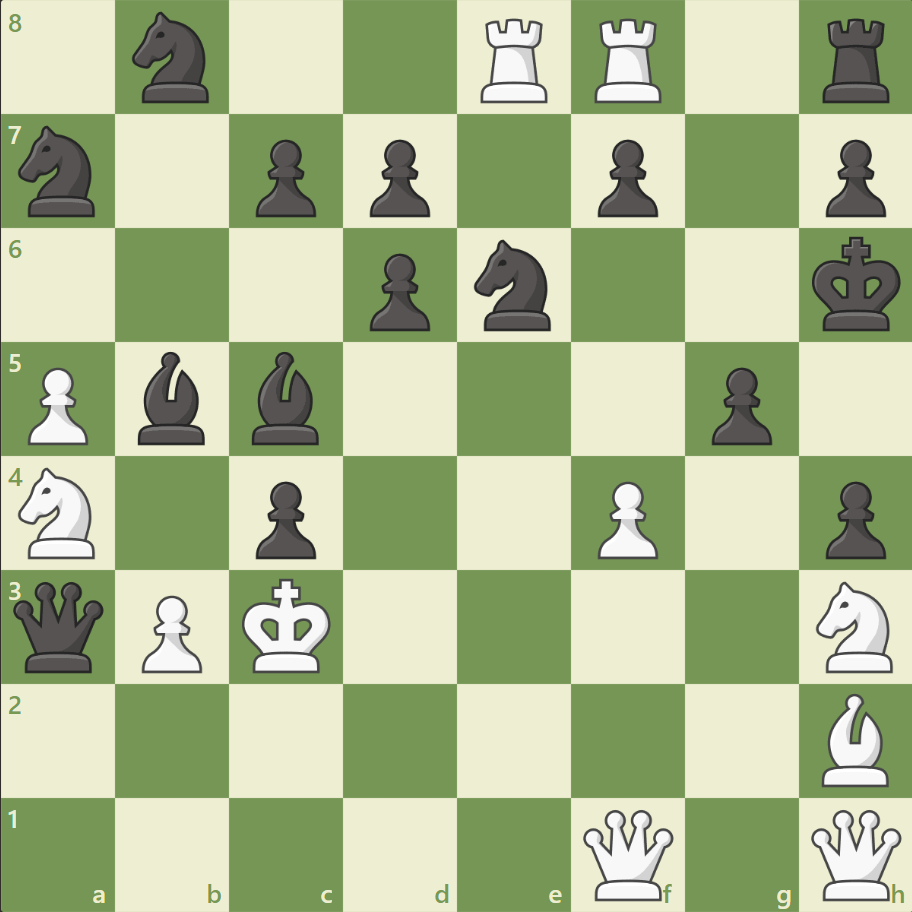B: (812, 687, 896, 790)
K: (238, 571, 338, 679)
N: (11, 461, 108, 564), (806, 575, 903, 677)
P: (20, 359, 95, 450), (133, 586, 208, 677), (588, 473, 662, 564)
Q: (578, 804, 677, 903), (805, 804, 904, 903)
R: (473, 12, 556, 109), (587, 12, 670, 109)
b: (131, 347, 215, 449), (244, 347, 328, 449)
k: (806, 231, 906, 339)
n: (124, 7, 222, 110), (465, 234, 562, 337), (11, 121, 108, 223)
p: (247, 132, 322, 223), (701, 359, 776, 450), (247, 473, 322, 564), (361, 132, 435, 223), (588, 132, 662, 223), (815, 132, 889, 223), (361, 246, 435, 337), (815, 473, 889, 564)
q: (10, 576, 109, 676)
r: (814, 12, 897, 109)
